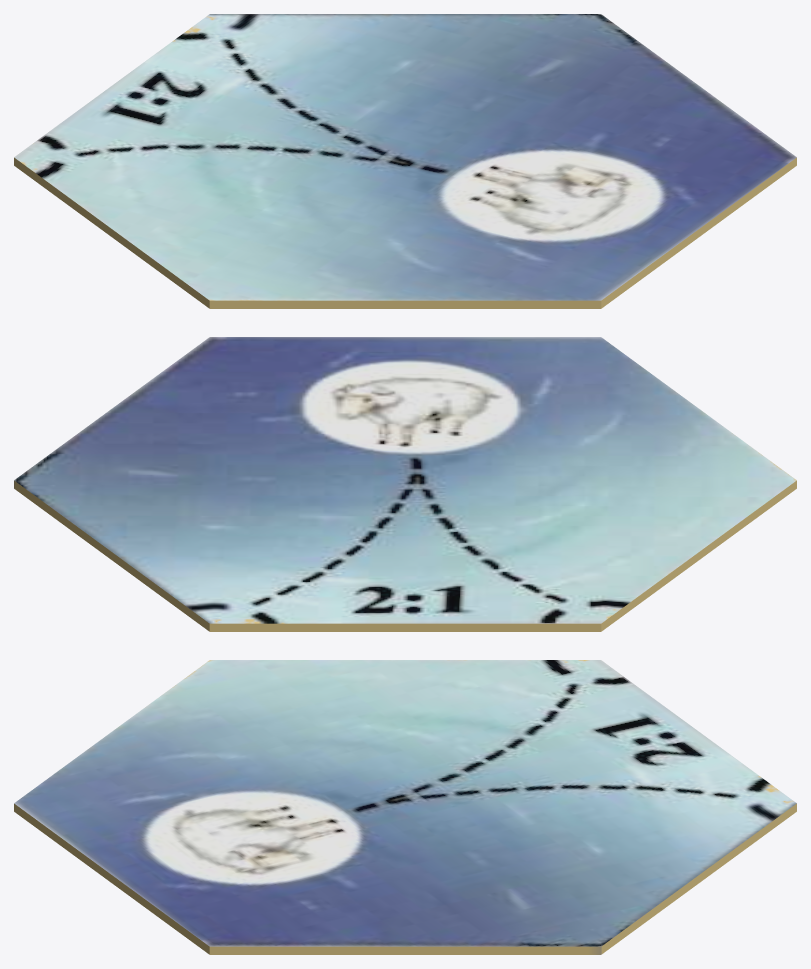
Rendered from trade_sheep.obj.
The picture shows the model from 3 angles, top to bottom: view 1: azimuth 30°, elevation 25°; view 2: azimuth 150°, elevation 25°; view 3: azimuth 270°, elevation 25°; orthographic projection.
Visible parts, largest first — view 1: trade_sheep; view 2: trade_sheep; view 3: trade_sheep.
Part boxes in pixels (x1=…): trade_sheep: x1=14, y1=14, x2=796, y2=308; trade_sheep: x1=14, y1=337, x2=796, y2=631; trade_sheep: x1=14, y1=660, x2=796, y2=954.
Bounding box in the file's own units: 1.73 × 0.0232 × 2.
